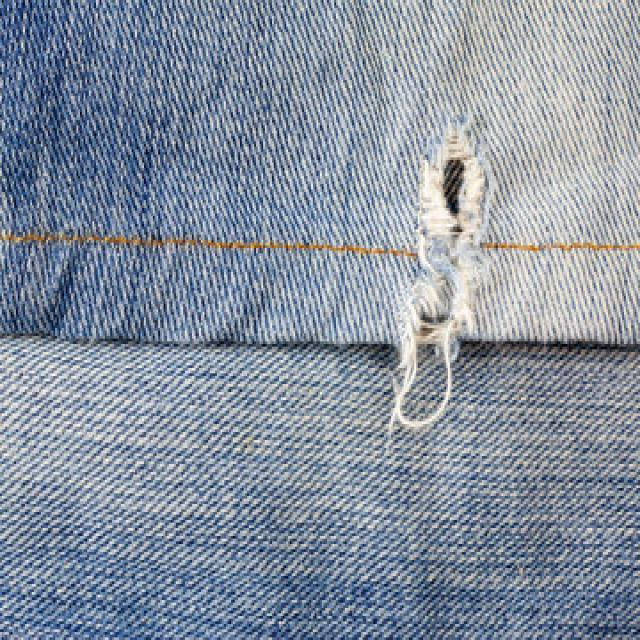Hole: (403, 117, 491, 354)
Line: (0, 234, 417, 258), (0, 331, 396, 352), (462, 339, 640, 354), (483, 242, 640, 252)
